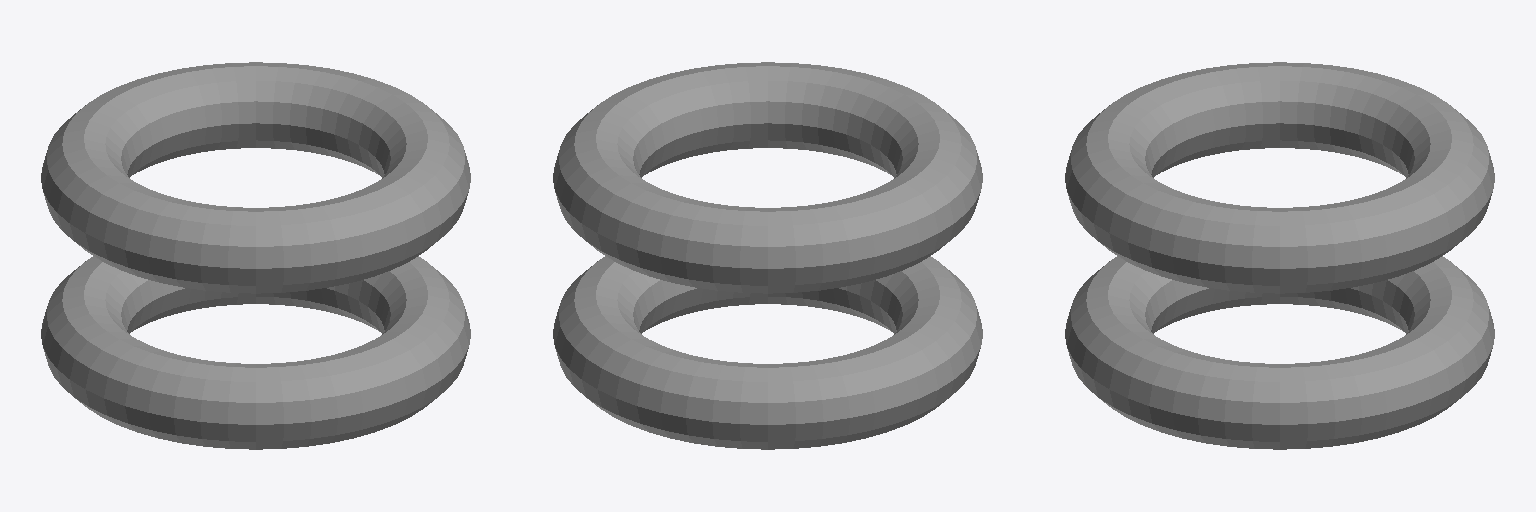
File: doubleTorus2.obj
3 renders of one model, left to right at view 1: azimuth 30°, elevation 25°; view 2: azimuth 150°, elevation 25°; view 3: azimuth 270°, elevation 25°, orthographic.
Visible parts, largest first — view 1: Torus.001, Torus; view 2: Torus.001, Torus; view 3: Torus.001, Torus.
Boxes of the visible parts, box(x1,y1,x2,y2) form: Torus.001: box(41, 62, 470, 293); Torus: box(41, 256, 470, 449); Torus.001: box(553, 62, 982, 293); Torus: box(553, 256, 982, 449); Torus.001: box(1065, 62, 1494, 293); Torus: box(1065, 256, 1494, 449).
Size of the model in its own units: 2.5 by 1.5 by 2.5.